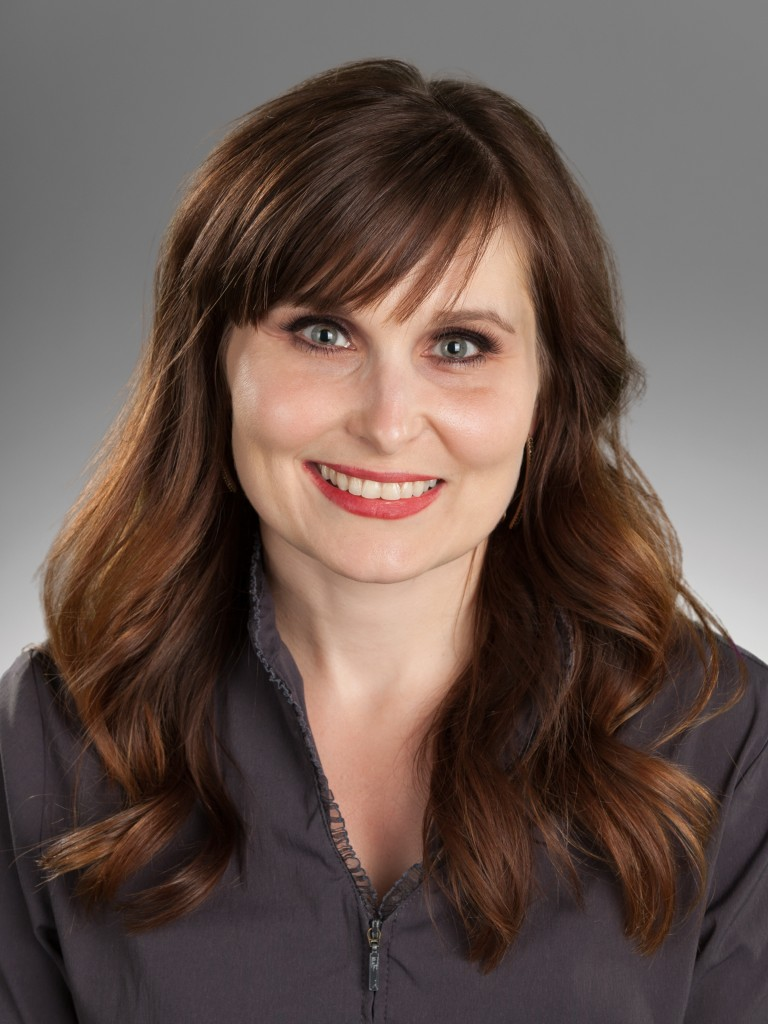shoot: (293, 452, 453, 528)
